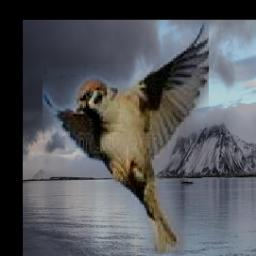Sparrow: (43, 22, 209, 255)
